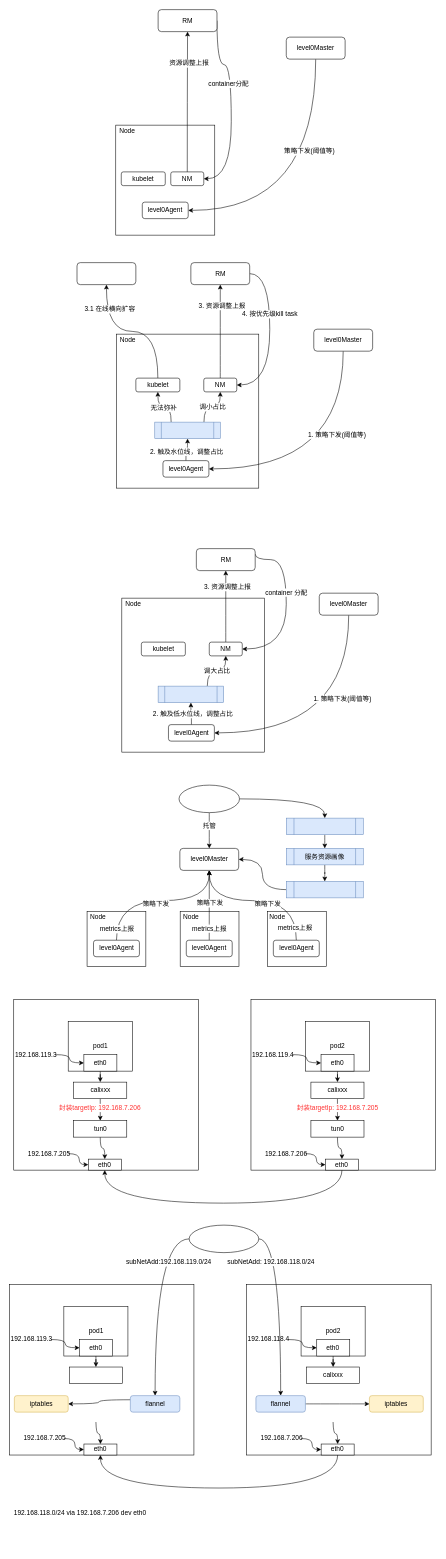
The diagram is 446 pixels wide and 1559 high, and some of its shapes have lost their labels. The shapes that lost their labels are listed below. From the top down, each one's centre as x and y in pixels, then its label:
the point at 106,273: ReplicaSet
the point at 187,430: 计算离线出让量
the point at 191,694: 计算离线接入量
the point at 209,799: serviceA
the point at 324,826: 刻画服务压力水位线
the point at 324,889: 资源配比策略
the point at 224,1239: etcd
the point at 95,1375: docker0
